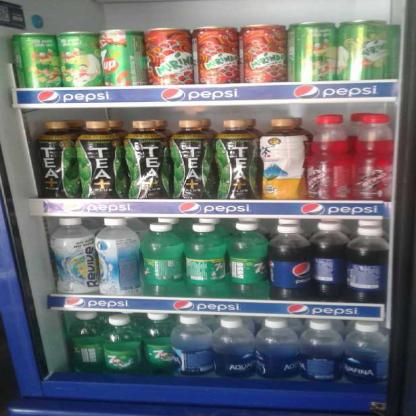7up: (288, 22, 336, 83), (6, 32, 58, 86), (100, 29, 146, 85), (57, 31, 100, 87)
7up-chai: (183, 224, 226, 296), (227, 222, 267, 297), (141, 223, 182, 294), (104, 314, 140, 376), (140, 312, 170, 375)
aquafina: (344, 322, 387, 384), (256, 317, 299, 378), (299, 320, 342, 380), (212, 316, 254, 376), (171, 316, 211, 376)
mirinda-sodakem: (337, 20, 389, 77)
mirinda-xaxi: (146, 28, 194, 84), (194, 26, 240, 84), (240, 24, 285, 83)
olong-tea: (122, 120, 170, 198), (213, 119, 258, 199), (77, 119, 121, 198), (170, 119, 212, 199), (35, 121, 77, 197)
olong-teaplus: (257, 118, 304, 199)
pepsi-blue-chai: (266, 224, 310, 298)
revive-white-chai: (49, 218, 96, 294), (97, 217, 138, 295)
sting-red-chai: (306, 113, 349, 200), (352, 114, 390, 201)
